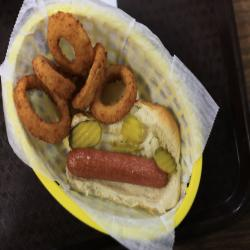hotdog: (59, 93, 188, 221)
